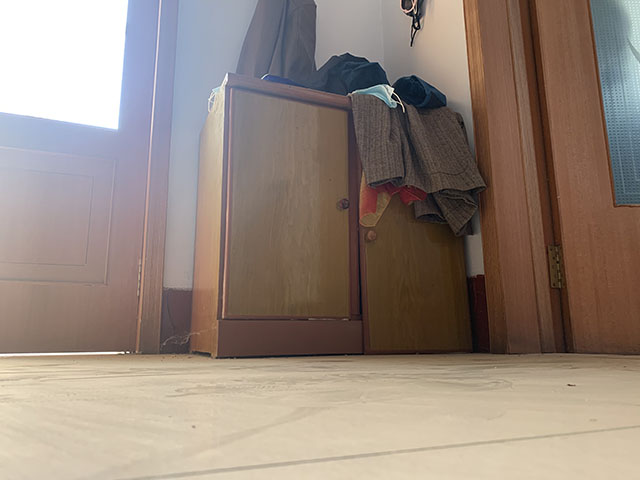cabinet: (187, 70, 477, 360)
